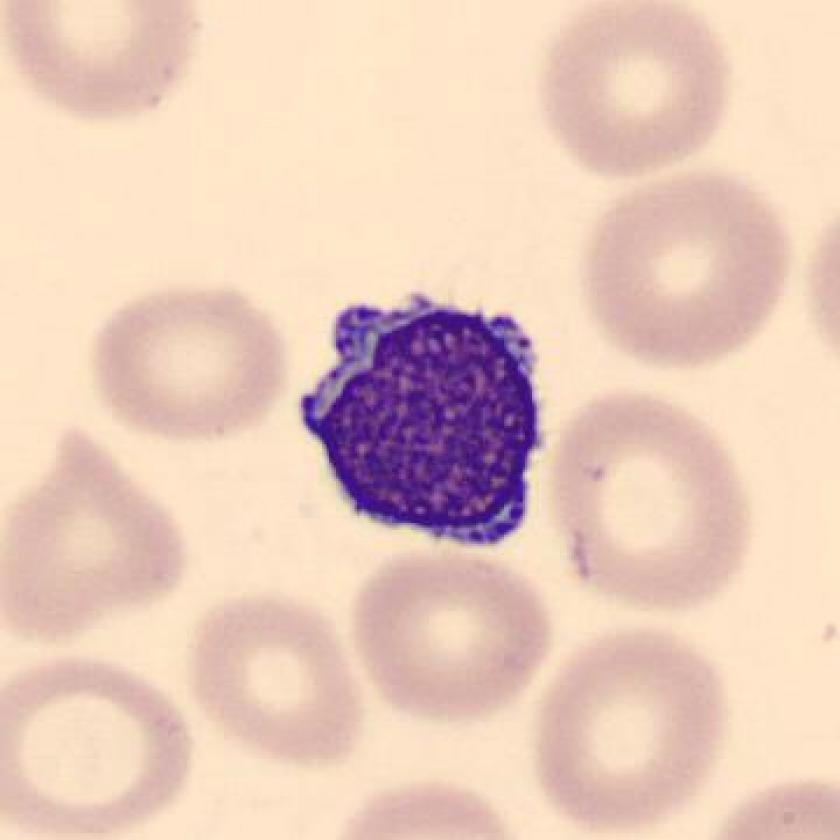lymphocyte: (281, 274, 556, 566)
